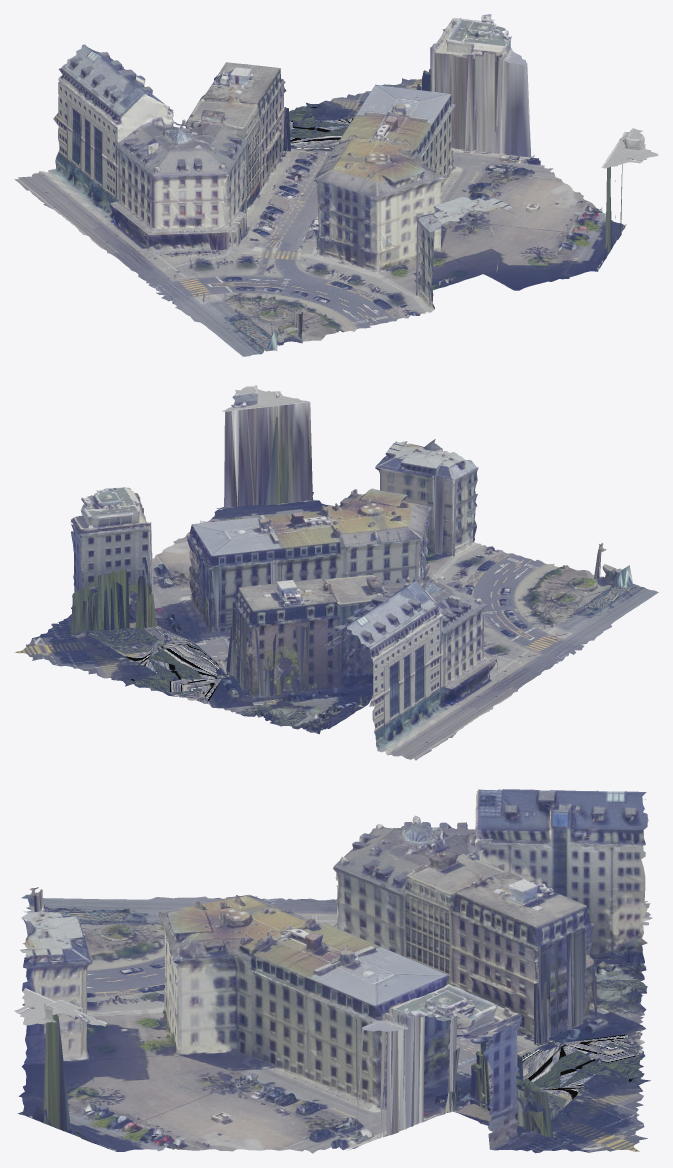
3 views of the same model, one above another, from view 1: azimuth 30°, elevation 25°; view 2: azimuth 150°, elevation 25°; view 3: azimuth 270°, elevation 25° (orthographic). The views are drawn at different scales.
Bounding box in the file's own units: 104 × 28.35 × 106.
1 material, 1 textured.
